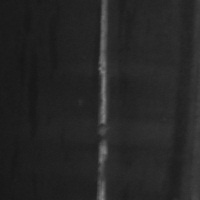scratches: (93, 0, 112, 199)
